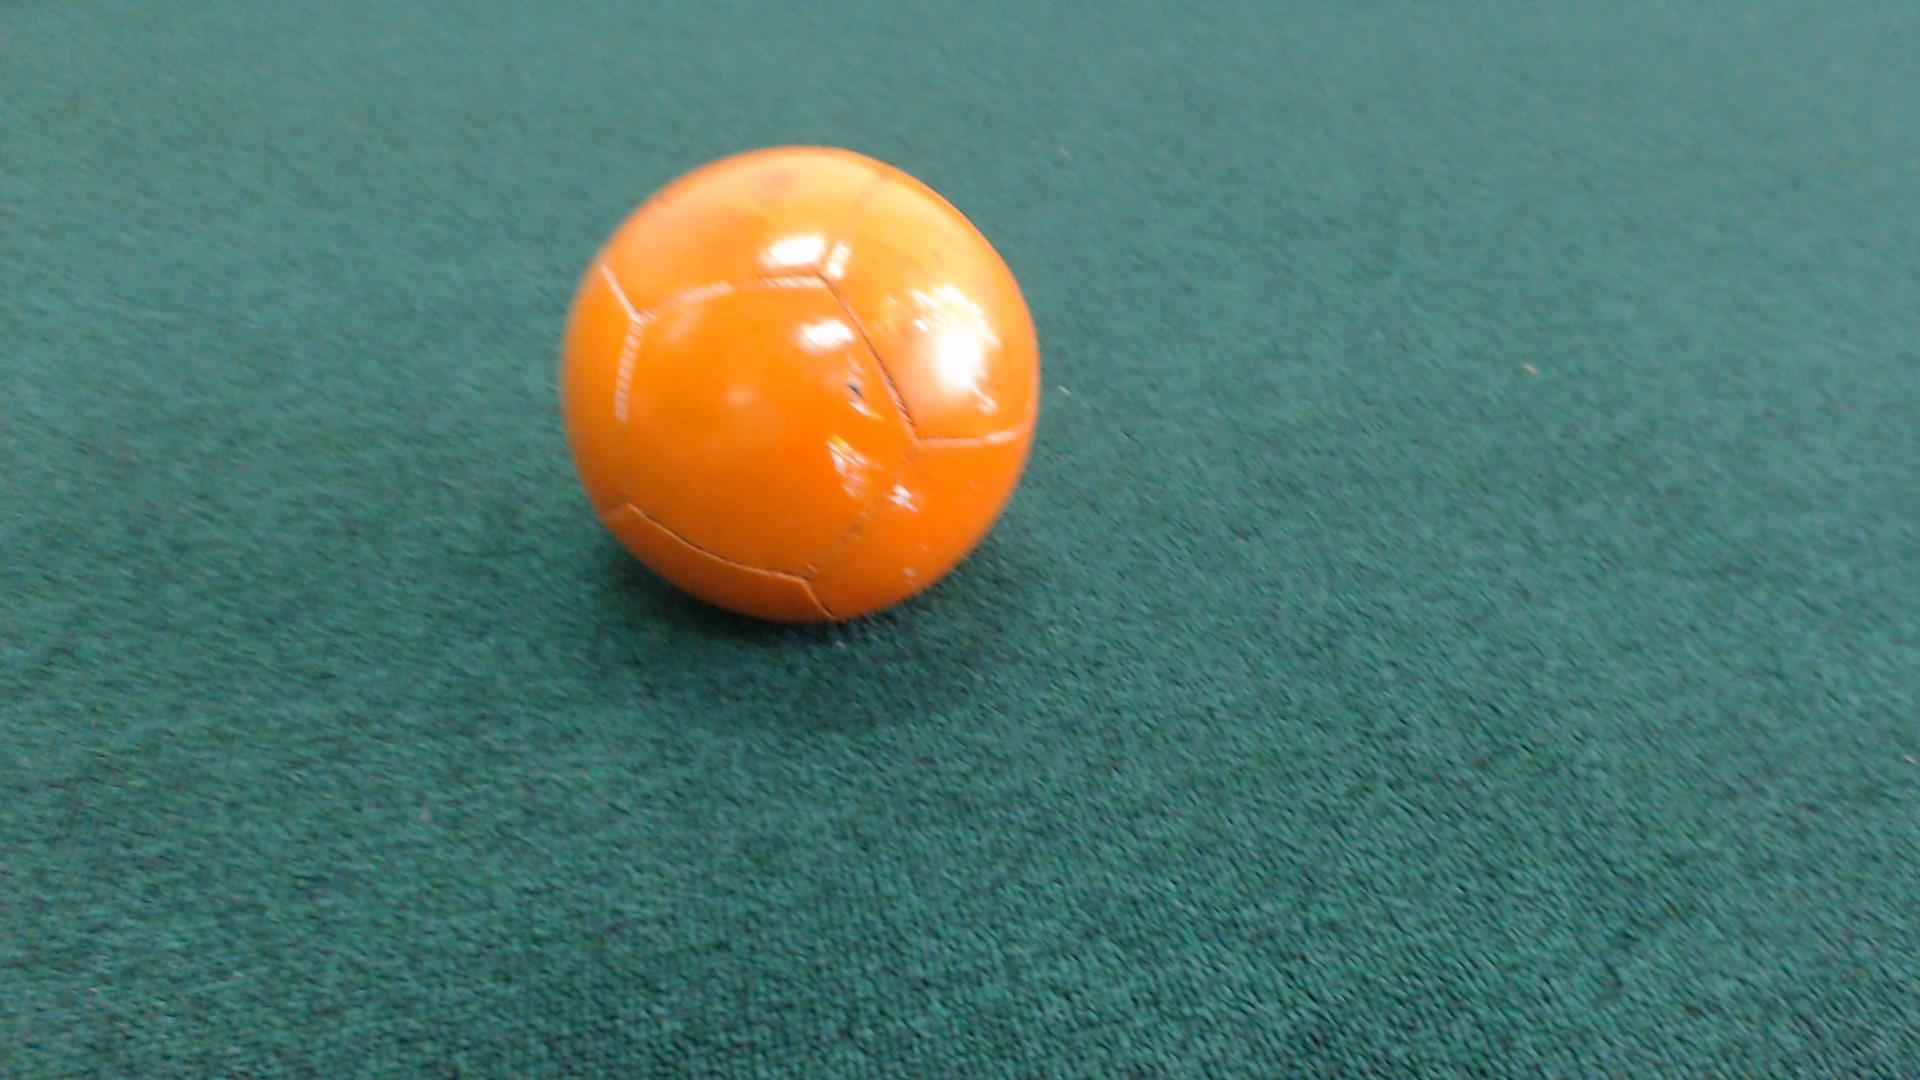bola: (538, 129, 1077, 665)
